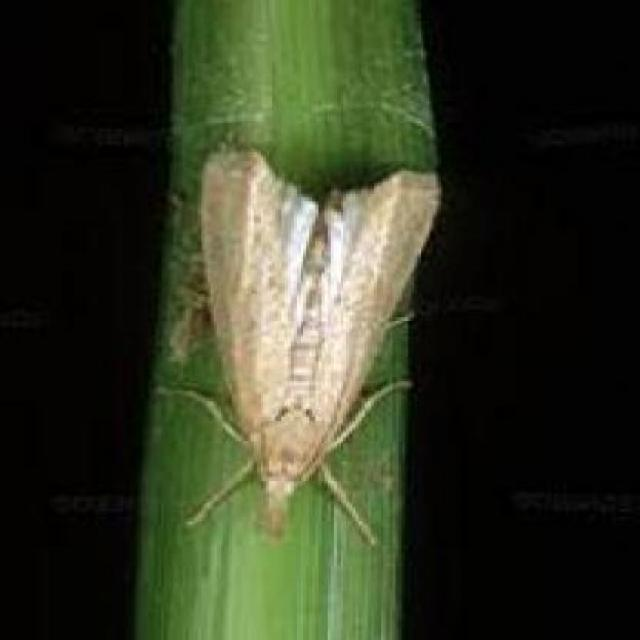stem-borer: (192, 149, 398, 531)
